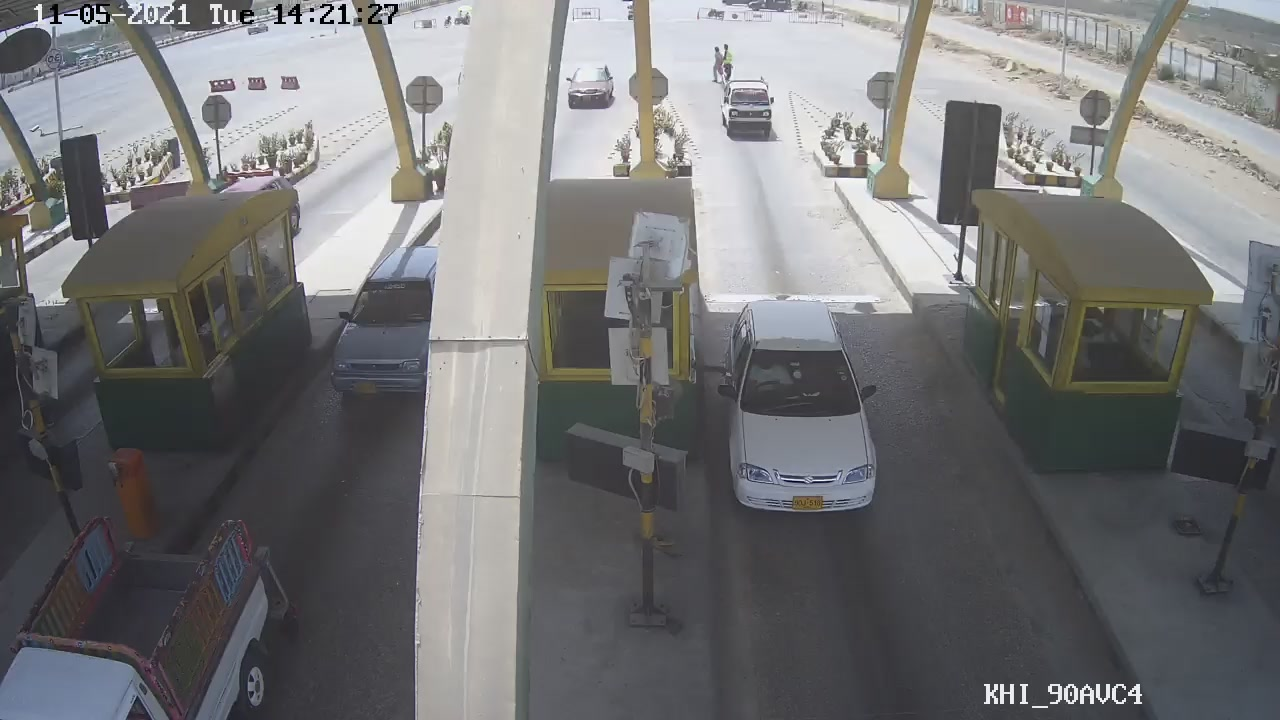F1: (715, 297, 888, 515)
